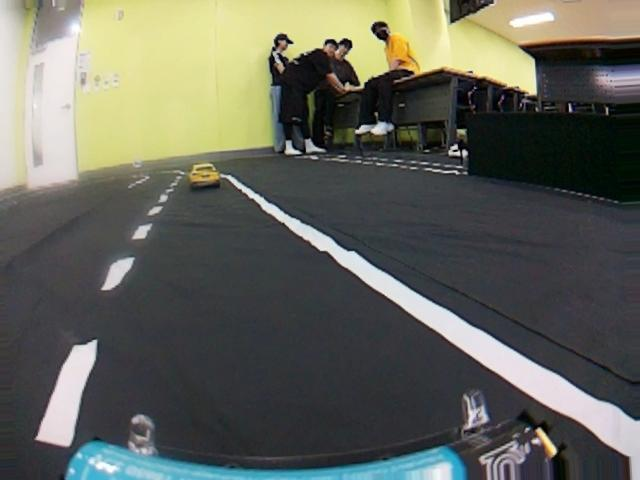car: (189, 162, 221, 190)
straight: (5, 207, 630, 474)
